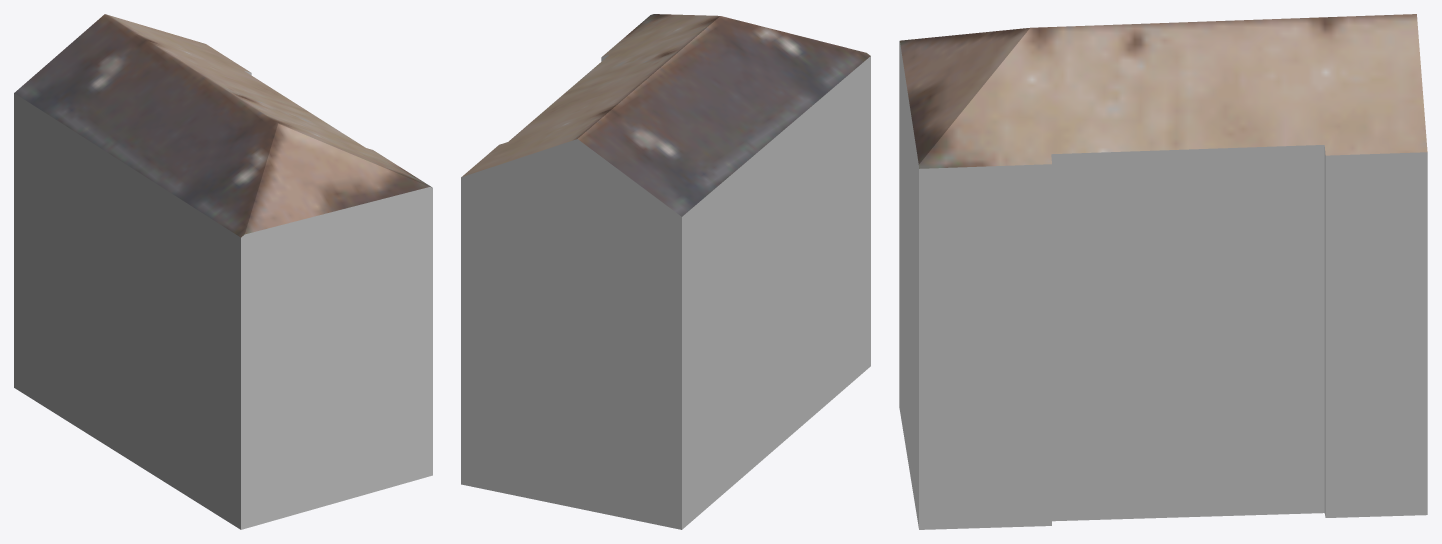
File: DEBW_0010007Tx6z.gltf
3 views of the same model, side by side, from view 1: azimuth 30°, elevation 25°; view 2: azimuth 150°, elevation 25°; view 3: azimuth 270°, elevation 25° (orthographic). The views are drawn at different scales.
Visible parts, largest first — view 1: Z_UP; view 2: Z_UP; view 3: Z_UP.
Boxes of the visible parts, bbox=[...] form: Z_UP: bbox=[14, 14, 432, 529]; Z_UP: bbox=[461, 14, 870, 529]; Z_UP: bbox=[899, 14, 1427, 529].
Size of the model in its own units: 10.89 by 16.16 by 17.71.
2 materials, 1 textured.
